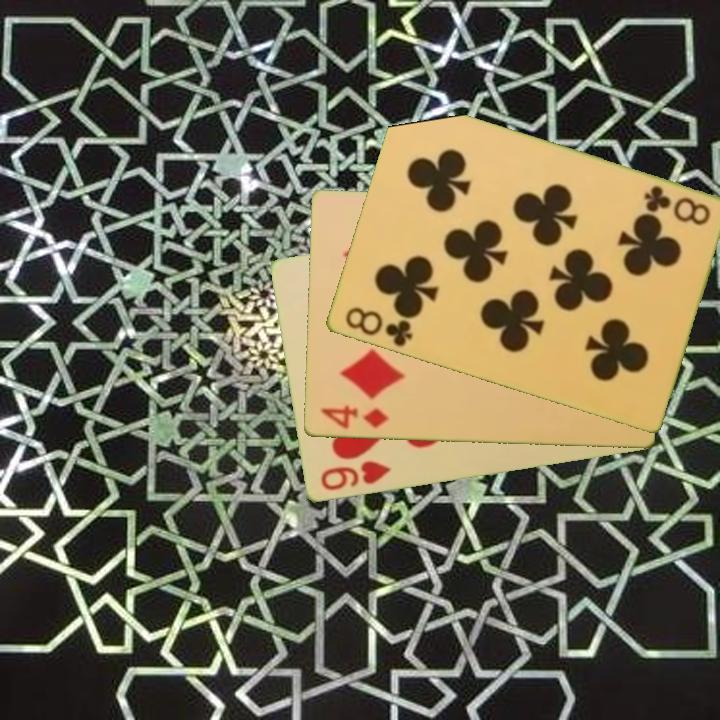4d: (316, 402, 391, 432)
8c: (341, 303, 416, 350), (639, 182, 713, 229)
9h: (317, 457, 393, 494)
